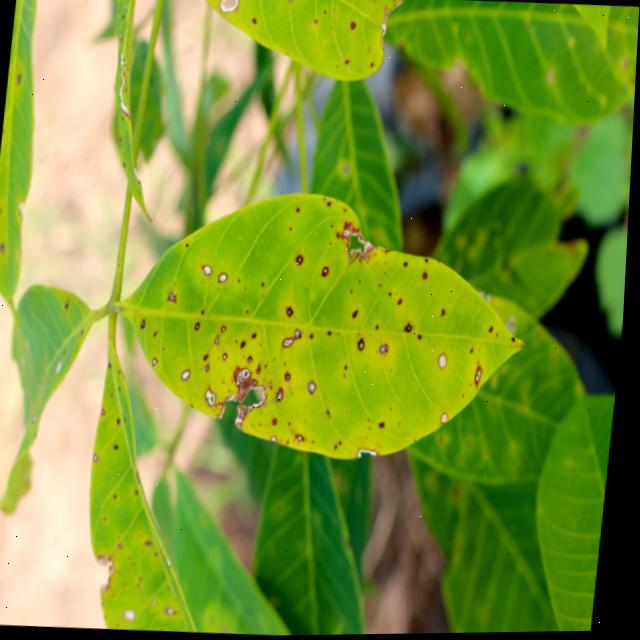Colletotrichum: (444, 415, 454, 425)
